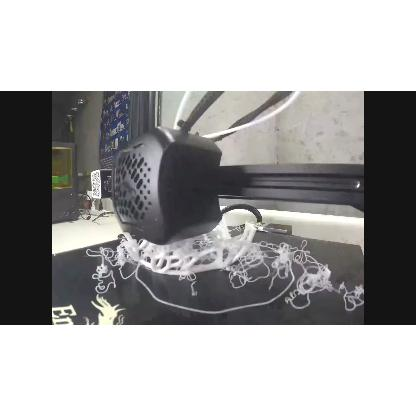fail: (85, 235, 365, 312)
